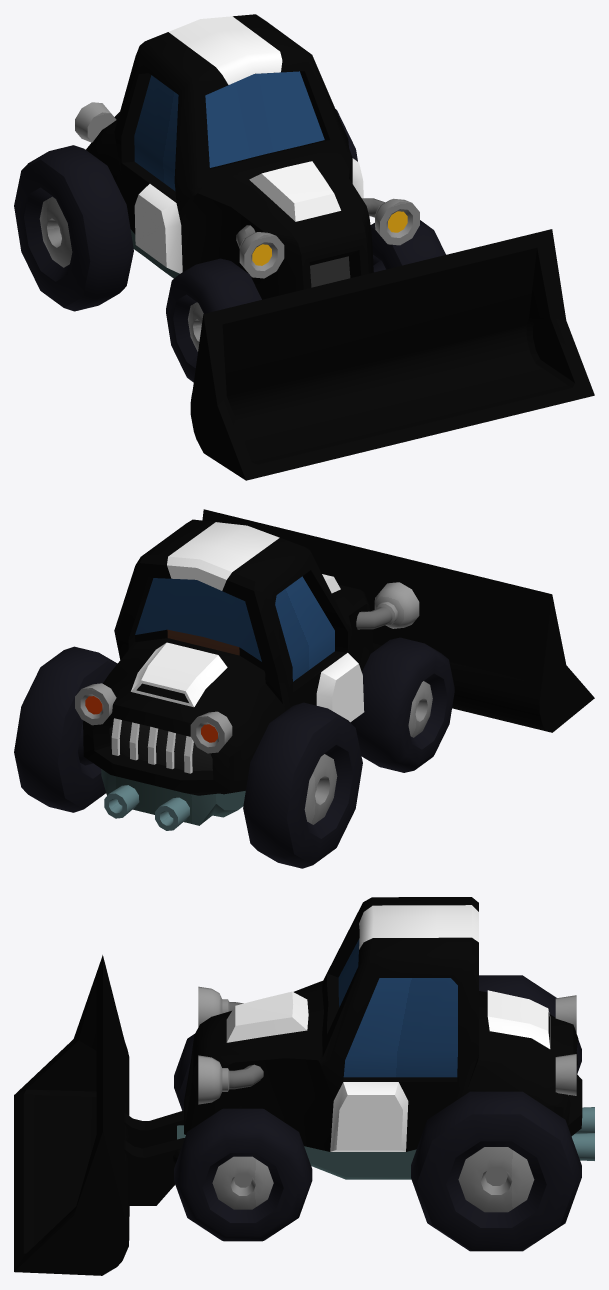
Rendered from Racing_Dozer_Cute.fbx.
3 renders of one model, top to bottom at view 1: azimuth 30°, elevation 25°; view 2: azimuth 150°, elevation 25°; view 3: azimuth 270°, elevation 25°, orthographic. The views are drawn at different scales.
Visible parts, largest first — view 1: bulldozer, Dozer, Wheel.B.R, Wheel.F.R, Wheel.F.L; view 2: Dozer, bulldozer, Wheel.B.R, Wheel.B.L, Wheel.F.R, Deco.Back; view 3: Dozer, bulldozer, Wheel.B.L, Wheel.F.L, Wheel.B.R, Wheel.F.R.
Boxes of the visible parts, bbox=[...] form: bulldozer: bbox=[190, 229, 594, 480]; Dozer: bbox=[75, 14, 419, 299]; Wheel.B.R: bbox=[14, 145, 133, 311]; Wheel.F.R: bbox=[166, 258, 261, 382]; Wheel.F.L: bbox=[370, 220, 445, 272]; Dozer: bbox=[75, 519, 419, 830]; bulldozer: bbox=[202, 509, 594, 732]; Wheel.B.R: bbox=[243, 702, 362, 868]; Wheel.B.L: bbox=[14, 646, 117, 812]; Wheel.F.R: bbox=[350, 637, 454, 772]; Deco.Back: bbox=[111, 718, 193, 773]; Dozer: bbox=[177, 897, 594, 1179]; bulldozer: bbox=[14, 955, 184, 1275]; Wheel.B.L: bbox=[411, 1091, 581, 1251]; Wheel.F.L: bbox=[174, 1108, 312, 1241]; Wheel.B.R: bbox=[479, 975, 581, 1073]; Wheel.F.R: bbox=[174, 1034, 194, 1110].
Bounding box in the file's own units: 121 × 86.8 × 168.
